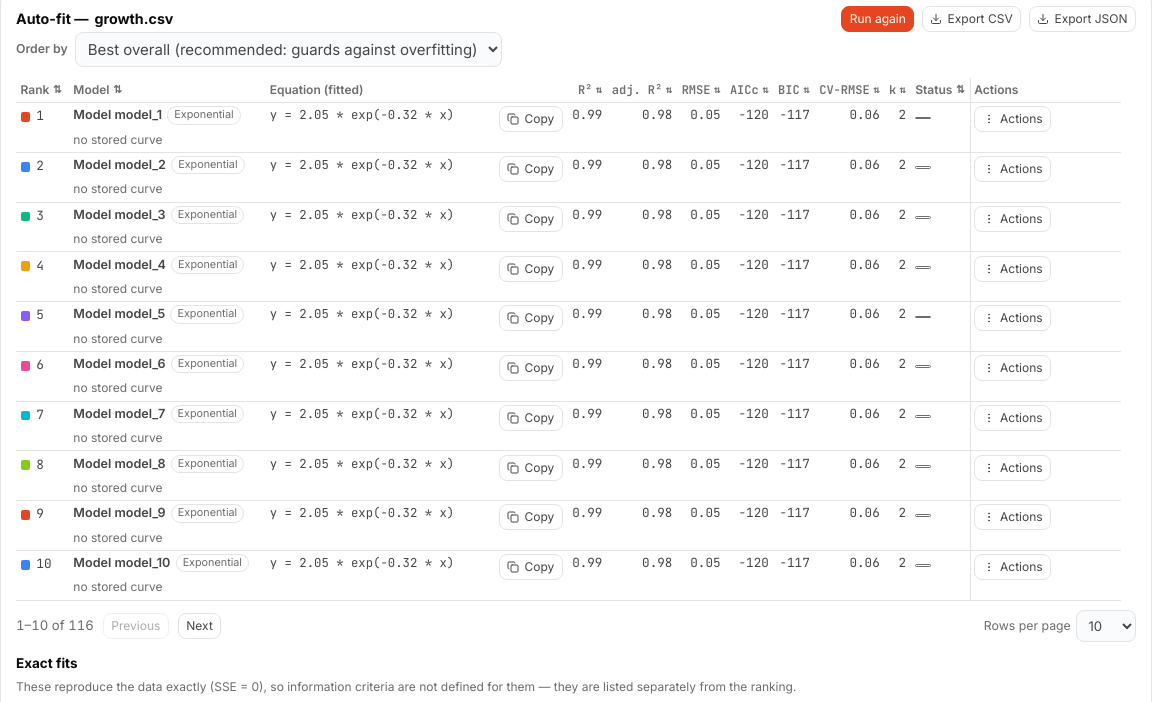
Test: AutofitPanel — pagination › changes the page size from the footer select
Select "25" in the dropdown labelled "Rows per page": (1106, 626) [1076,610,1136,642]
(page scrolled)
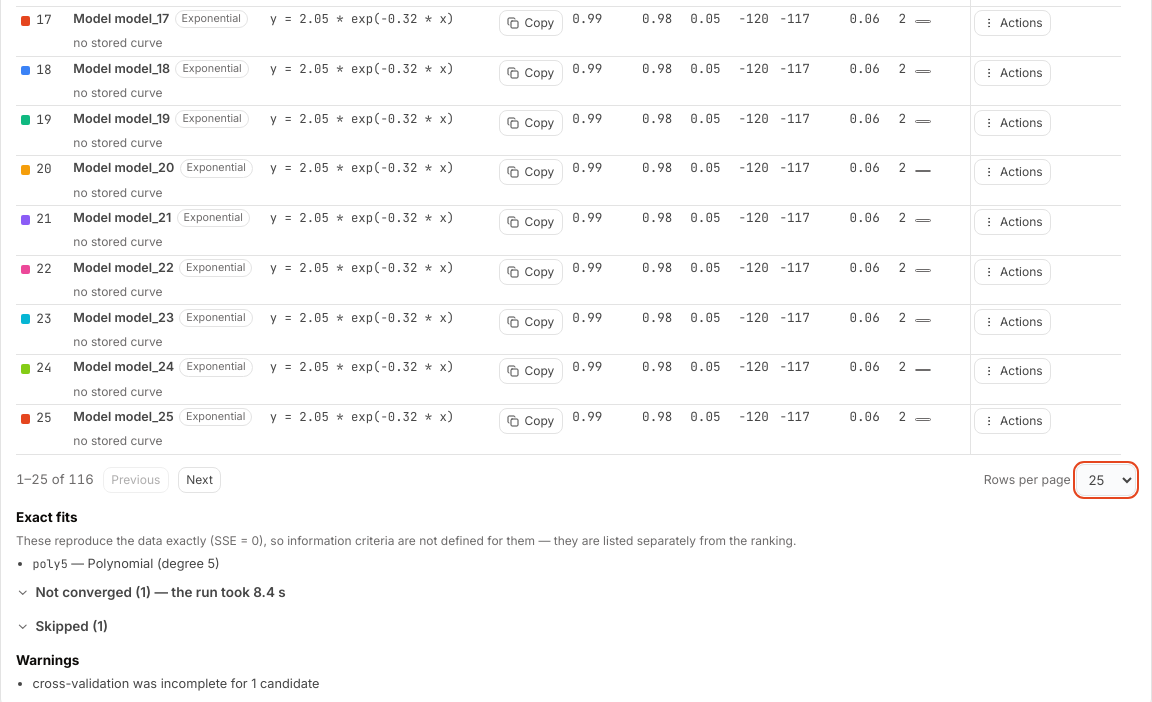
Expected: the text "1–25 of 116" is shown, [16,470,94,490]
